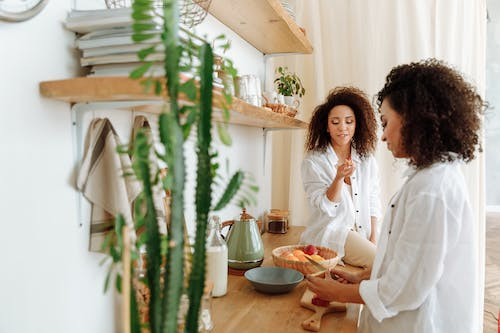knife: (302, 253, 341, 280)
